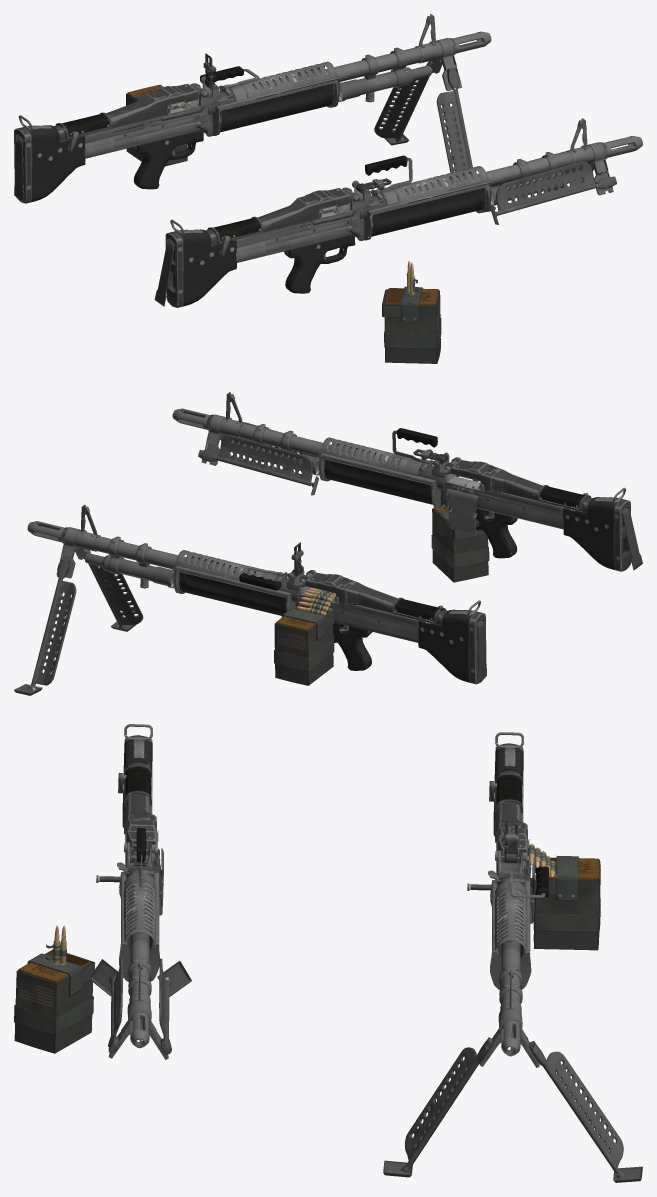
The picture shows the model from 3 angles, top to bottom: view 1: azimuth 30°, elevation 25°; view 2: azimuth 150°, elevation 25°; view 3: azimuth 270°, elevation 25°; orthographic projection. The views are drawn at different scales.
Visible parts, largest first — view 1: polySurface320_body_m_0, polySurface285_body_m_0, polySurface320_bits_m_0, polySurface285_bits_m_0, polySurface346_lambert1_0, polySurface239_body_m_0, polySurface245_body_m_0, polySurface237_body_m_0, polySurface261_lambert1_0, polySurface156_bits_m_0, polySurface248_bits_m_0; view 2: polySurface320_body_m_0, polySurface285_body_m_0, polySurface320_bits_m_0, polySurface285_bits_m_0, polySurface261_lambert1_0, polySurface346_lambert1_0, polySurface245_body_m_0, polySurface239_body_m_0, polySurface321_bits_m_0, polySurface248_bits_m_0, polySurface261_bulletsandcasings_0, polySurface156_bits_m_0; view 3: polySurface320_body_m_0, polySurface346_lambert1_0, polySurface285_body_m_0, polySurface261_lambert1_0, polySurface320_bits_m_0, polySurface285_bits_m_0, polySurface245_body_m_0, polySurface239_body_m_0.
Part boxes in pixels (x1,y1,x2,y2): polySurface320_body_m_0: [165, 151, 616, 307]; polySurface285_body_m_0: [14, 61, 339, 203]; polySurface320_bits_m_0: [154, 118, 642, 306]; polySurface285_bits_m_0: [17, 14, 491, 155]; polySurface346_lambert1_0: [382, 286, 441, 363]; polySurface239_body_m_0: [436, 67, 495, 213]; polySurface245_body_m_0: [374, 61, 436, 145]; polySurface237_body_m_0: [115, 121, 212, 148]; polySurface261_lambert1_0: [126, 84, 187, 166]; polySurface156_bits_m_0: [14, 136, 24, 201]; polySurface248_bits_m_0: [200, 66, 259, 89]; polySurface320_body_m_0: [198, 422, 631, 571]; polySurface285_body_m_0: [173, 550, 486, 684]; polySurface320_bits_m_0: [172, 392, 642, 570]; polySurface285_bits_m_0: [27, 504, 483, 638]; polySurface261_lambert1_0: [274, 603, 334, 685]; polySurface346_lambert1_0: [431, 505, 489, 582]; polySurface245_body_m_0: [14, 558, 76, 695]; polySurface239_body_m_0: [78, 548, 143, 631]; polySurface321_bits_m_0: [446, 488, 477, 534]; polySurface248_bits_m_0: [236, 566, 284, 590]; polySurface261_bulletsandcasings_0: [297, 587, 335, 615]; polySurface156_bits_m_0: [477, 621, 486, 682]; polySurface320_body_m_0: [89, 735, 191, 1055]; polySurface346_lambert1_0: [14, 949, 95, 1053]; polySurface285_body_m_0: [490, 743, 531, 989]; polySurface261_lambert1_0: [532, 856, 600, 950]; polySurface320_bits_m_0: [108, 724, 168, 1059]; polySurface285_bits_m_0: [479, 732, 539, 1067]; polySurface245_body_m_0: [528, 1041, 642, 1182]; polySurface239_body_m_0: [383, 1037, 494, 1177].
Size of the model in its own units: 42.35 by 14.89 by 39.01.
5 materials, 5 textured.
